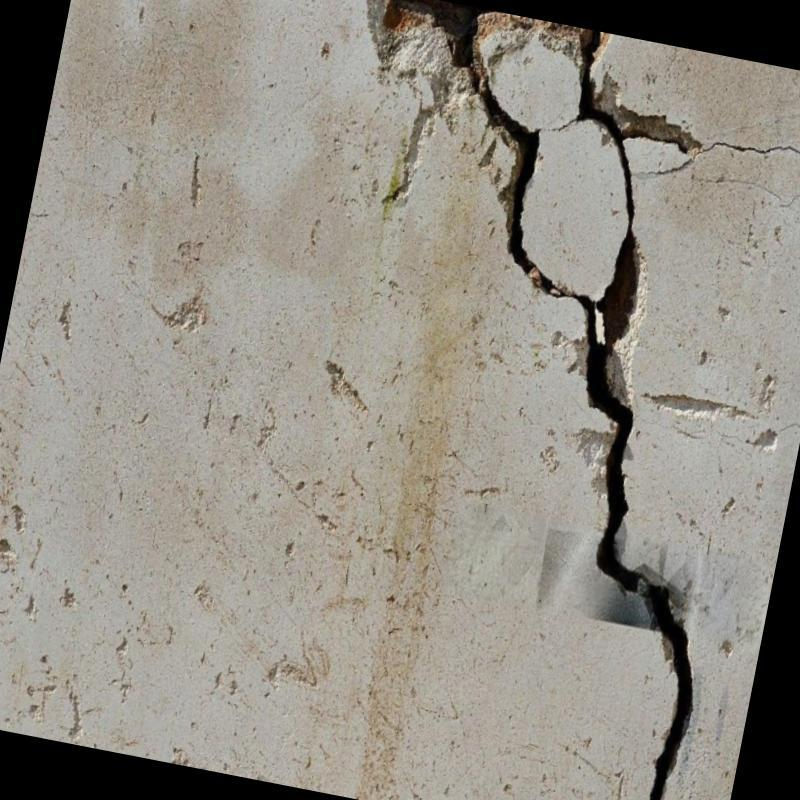pothole: (436, 1, 692, 800), (642, 141, 800, 175)
